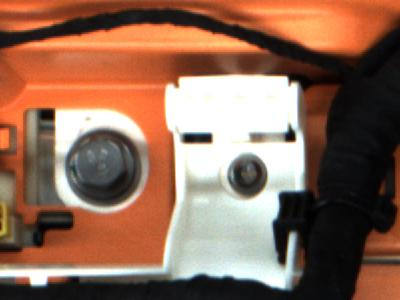nut_b: (65, 127, 147, 207)
